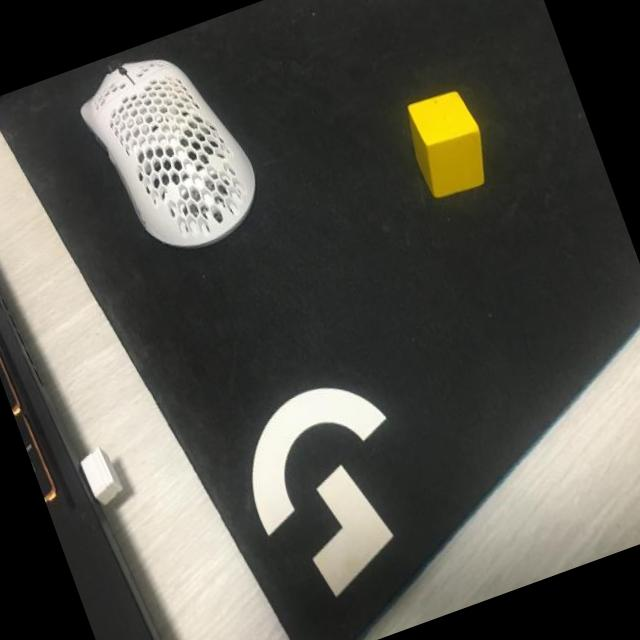yellow: (399, 86, 498, 202)
